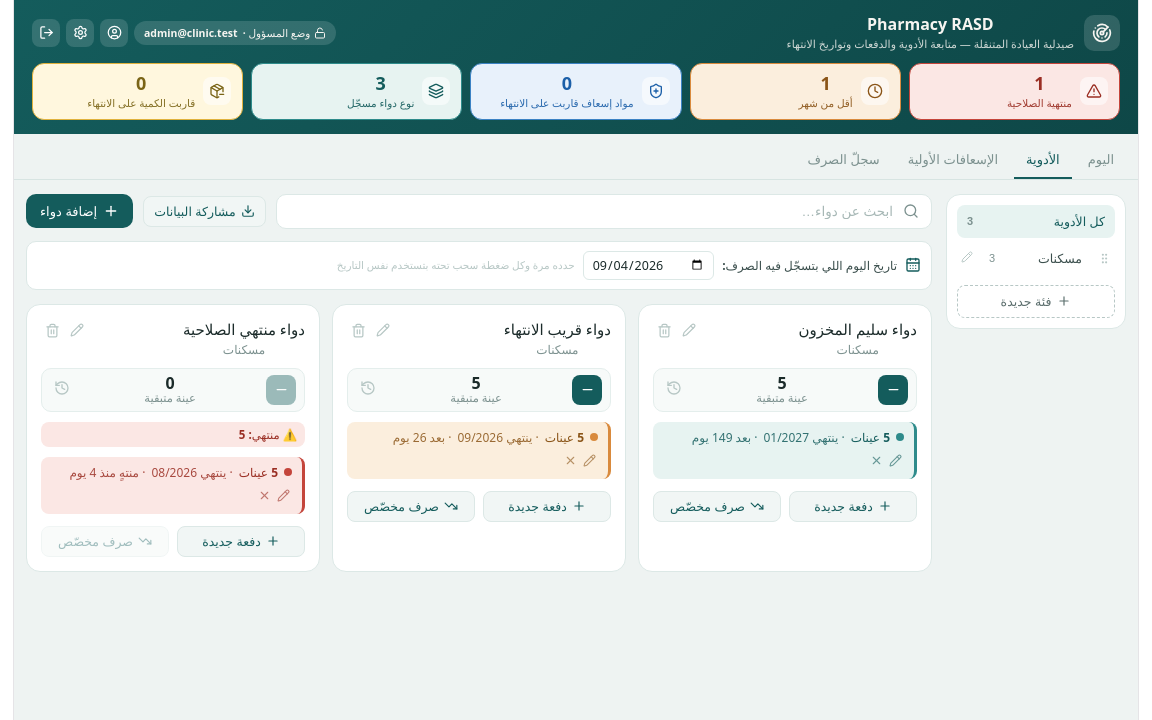
Test: KPI cards — clickable dashboard shortcuts › shows the existing empty state for the low-stock first-aid filter when nothing matches
Click the button "0 مواد إسعاف قاربت على الانتهاء".
click(576, 91)  # box [470, 63, 682, 120]
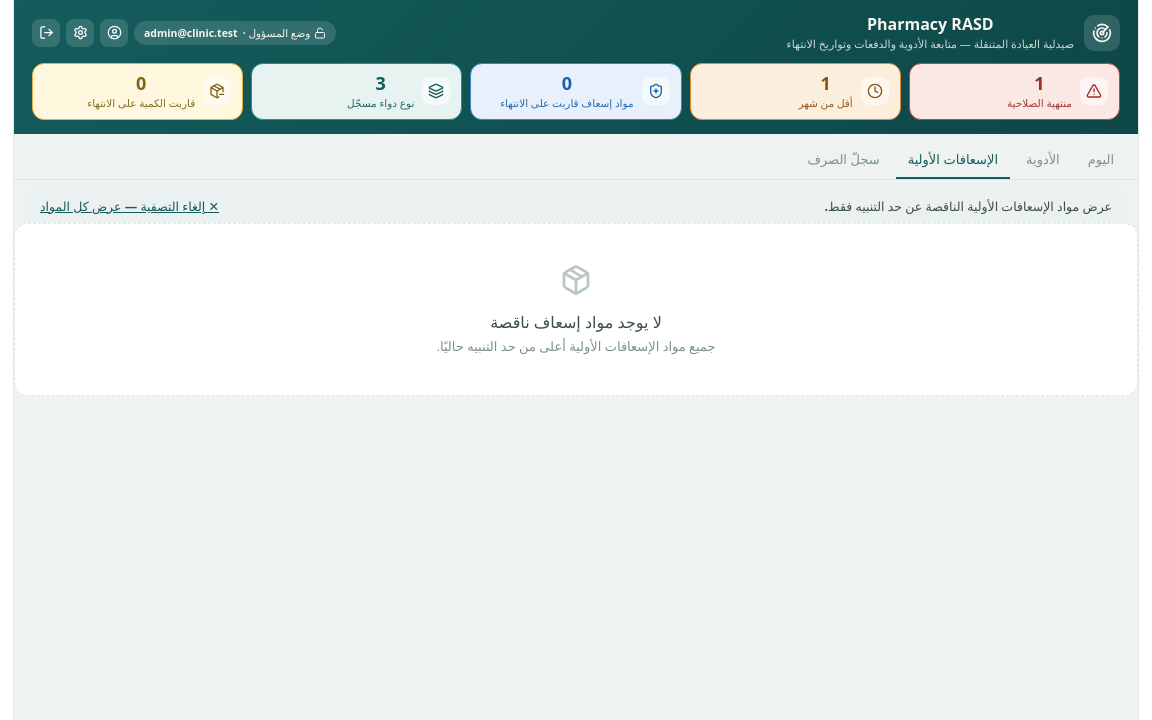
expect the text "لا يوجد مواد إسعاف ناقصة" is shown: met, box [490, 311, 662, 333]
